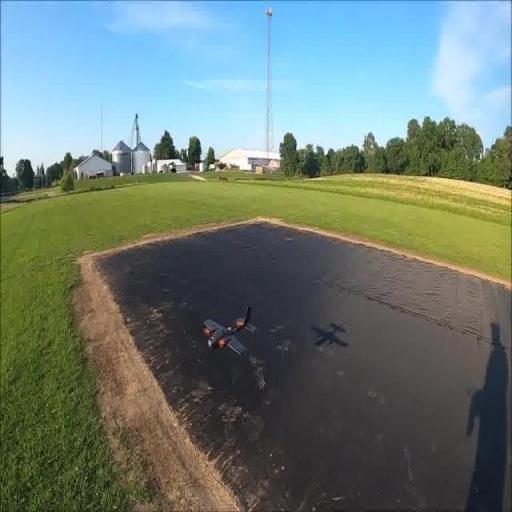uav: (199, 298, 257, 363)
